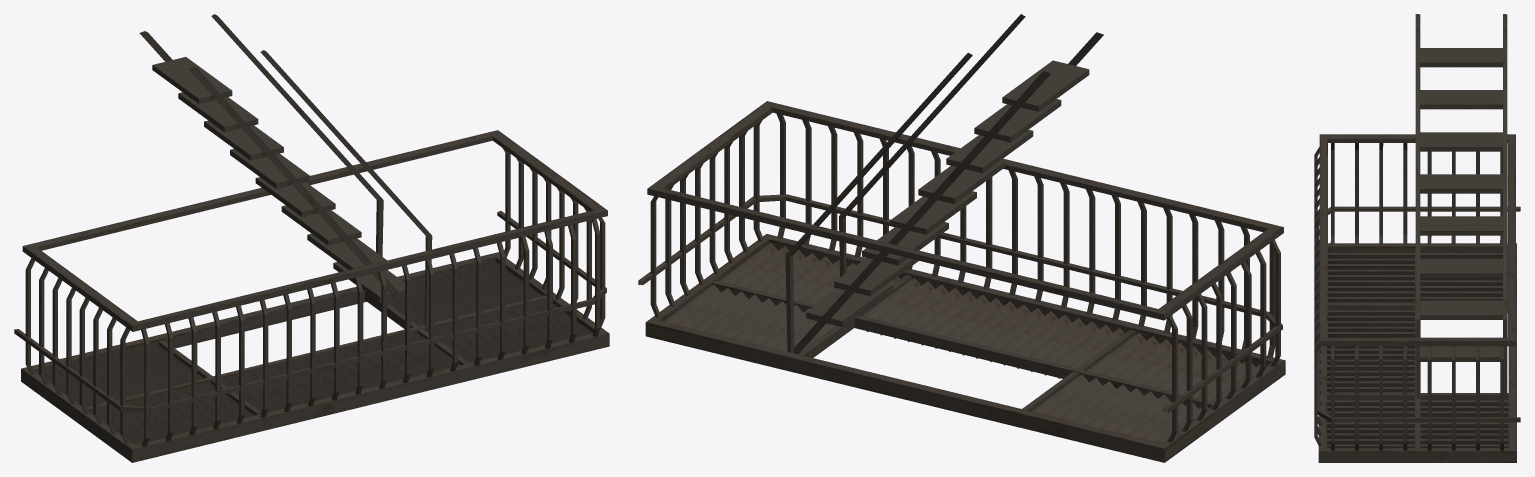
File: Prop_FireEscape_Center.glb
3 renders of one model, left to right at view 1: azimuth 30°, elevation 25°; view 2: azimuth 150°, elevation 25°; view 3: azimuth 270°, elevation 25°, orthographic. The views are drawn at different scales.
Parts seen in each view (by area): view 1: Prop_FireEscape_Center; view 2: Prop_FireEscape_Center; view 3: Prop_FireEscape_Center.
Boxes of the visible parts, left/top/right/bottom form: Prop_FireEscape_Center: left=14, top=14, right=609, bottom=462; Prop_FireEscape_Center: left=638, top=14, right=1285, bottom=462; Prop_FireEscape_Center: left=1314, top=14, right=1520, bottom=462.
Bounding box in the file's own units: 4.8 × 3.07 × 1.98.
1 material, 1 textured.
